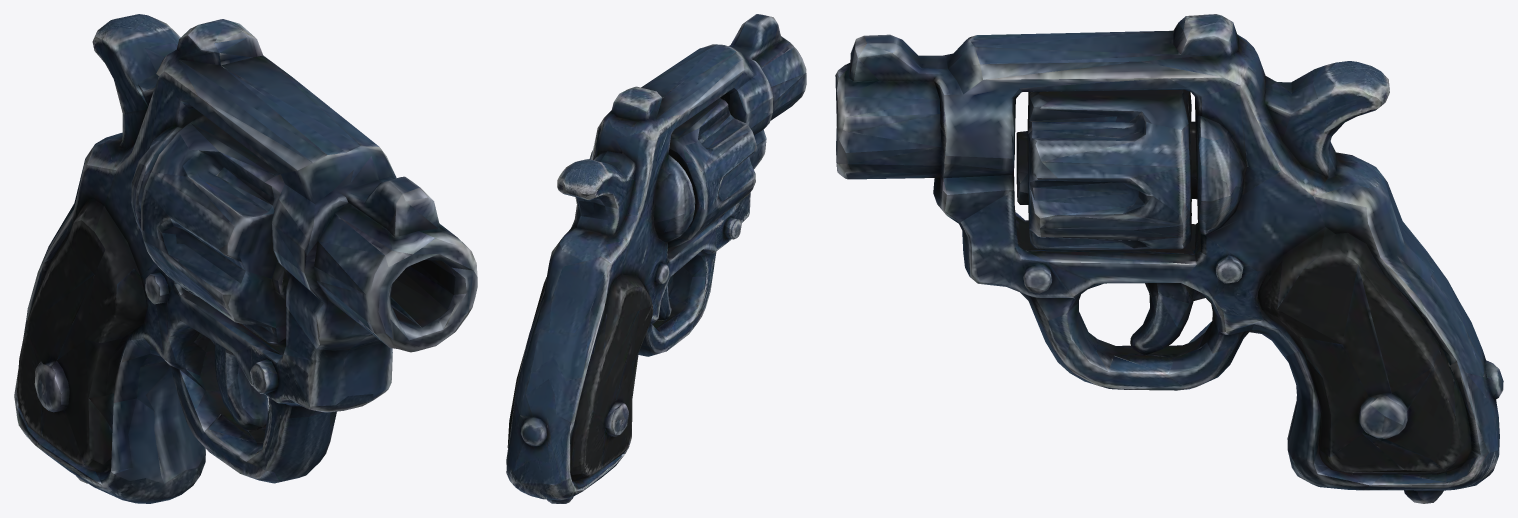
File: gun_snubby.glb
3 views of the same model, side by side, from view 1: azimuth 30°, elevation 25°; view 2: azimuth 150°, elevation 25°; view 3: azimuth 270°, elevation 25° (orthographic). The views are drawn at different scales.
Size of the model in its own units: 0.0507 by 0.1432 by 0.18.
1 material, 1 textured.
